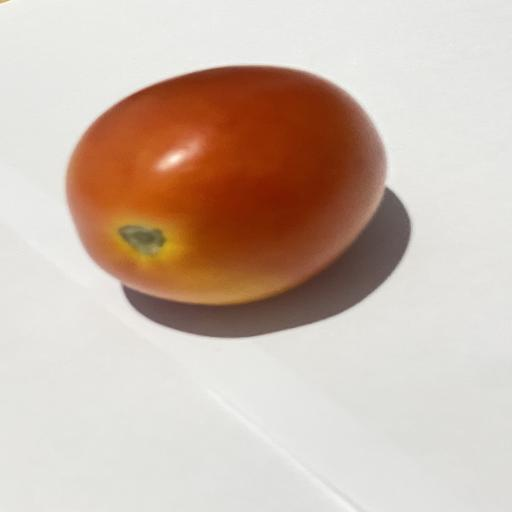ripe: (66, 66, 386, 305)
